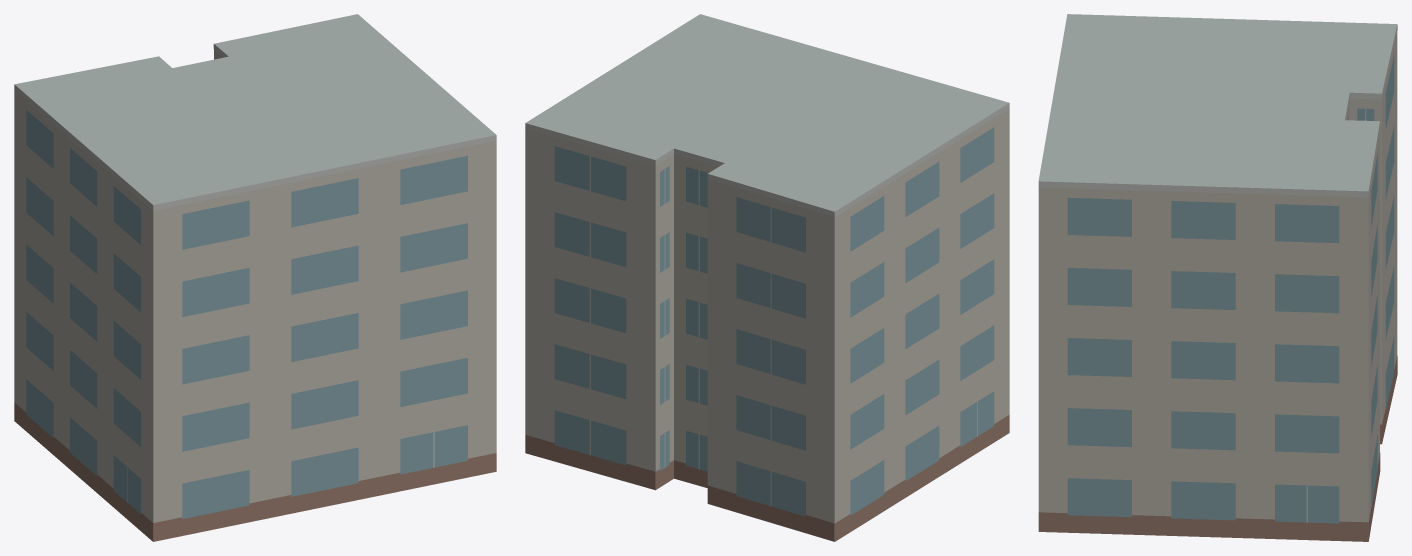
File: survey-upis-32877737.glb
The picture shows the model from 3 angles, left to right: view 1: azimuth 30°, elevation 25°; view 2: azimuth 150°, elevation 25°; view 3: azimuth 270°, elevation 25°; orthographic projection. The views are drawn at different scales.
Visible parts, largest first — view 1: survey-upis-32877737.tmp; view 2: survey-upis-32877737.tmp; view 3: survey-upis-32877737.tmp.
Boxes of the visible parts, x1=… form: survey-upis-32877737.tmp: x1=14, y1=14, x2=496, y2=541; survey-upis-32877737.tmp: x1=525, y1=14, x2=1009, y2=541; survey-upis-32877737.tmp: x1=1038, y1=14, x2=1397, y2=541.
Size of the model in its own units: 15.64 by 14.4 by 13.38.
